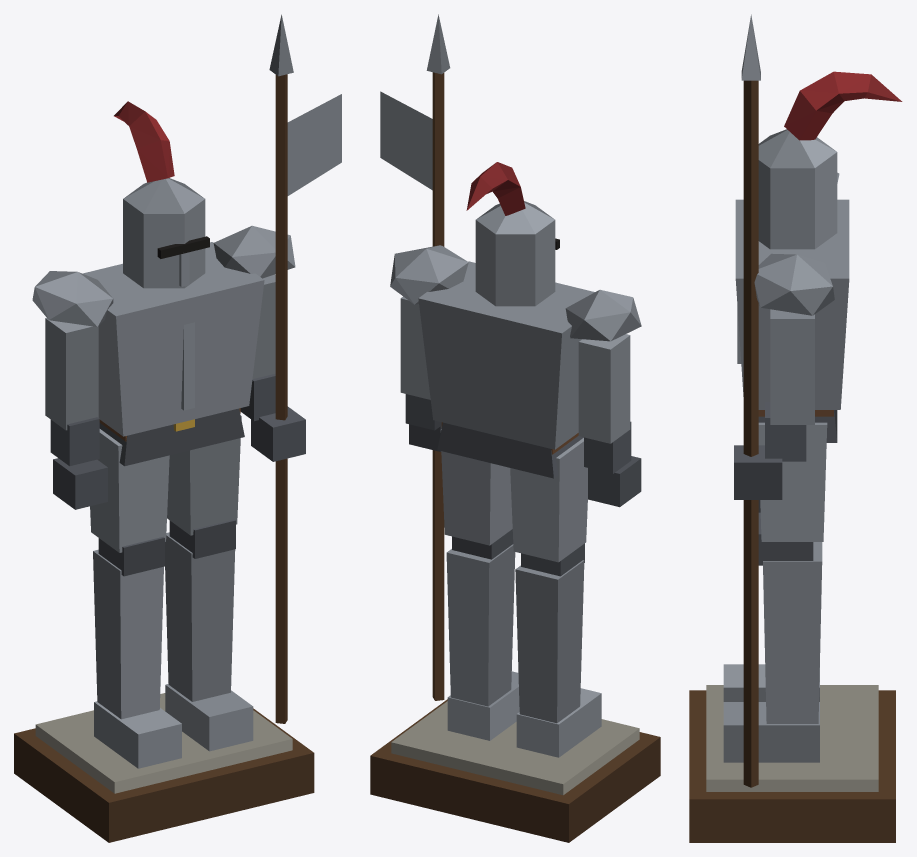
Rendered from suit_of_armour.glb.
The picture shows the model from 3 angles, left to right: view 1: azimuth 30°, elevation 25°; view 2: azimuth 150°, elevation 25°; view 3: azimuth 270°, elevation 25°; orthographic projection. The views are drawn at different scales.
Visible parts, largest first — view 1: suit_of_armour; view 2: suit_of_armour; view 3: suit_of_armour.
Part boxes in pixels (box(x1,y1,x2,y2)): suit_of_armour: box(14, 14, 341, 842); suit_of_armour: box(370, 14, 660, 842); suit_of_armour: box(689, 14, 902, 842).
Size of the model in its own units: 1.03 by 2.65 by 0.62.
